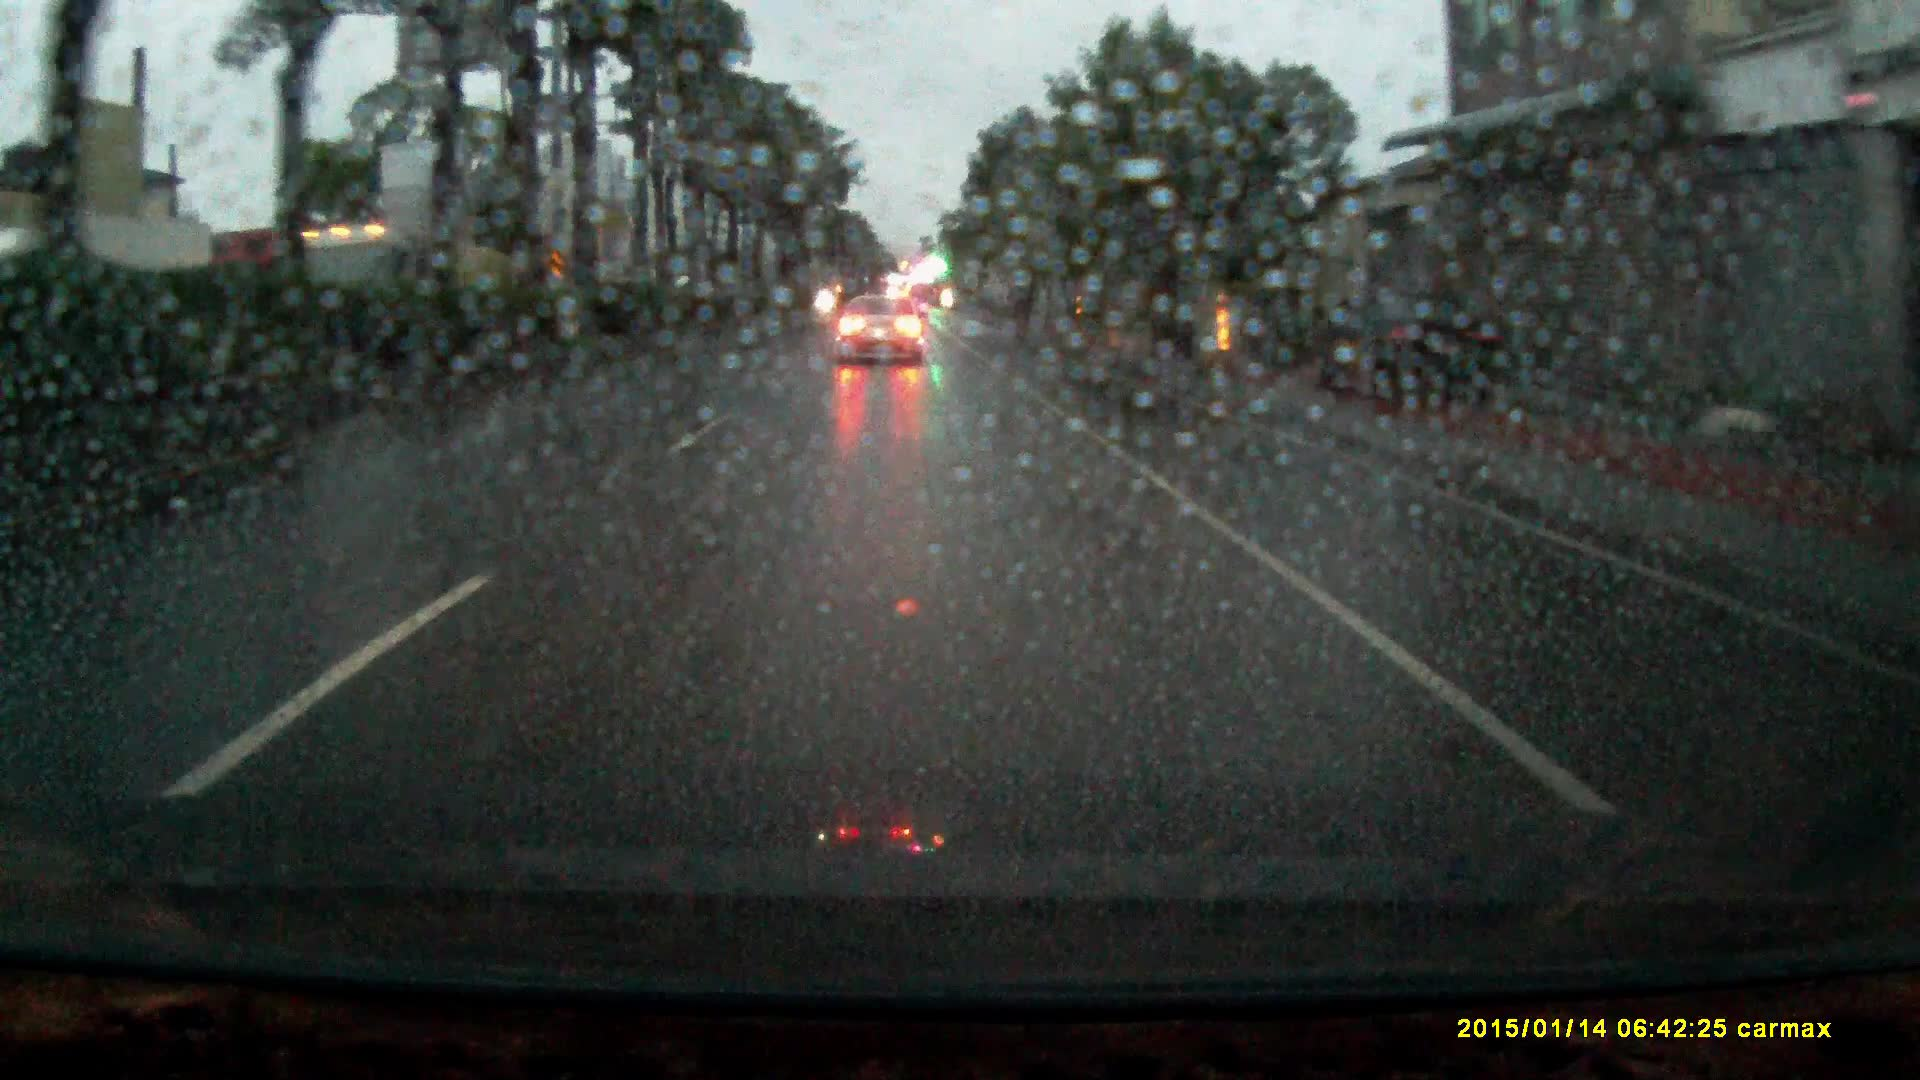vehicle: (268, 227, 512, 349), (1317, 291, 1495, 407), (833, 302, 927, 372)
